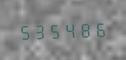eight: (78, 19, 92, 38)
five: (17, 21, 31, 41), (48, 20, 62, 40)
four: (63, 20, 77, 39)
six: (93, 18, 107, 38)
three: (32, 21, 46, 40)
